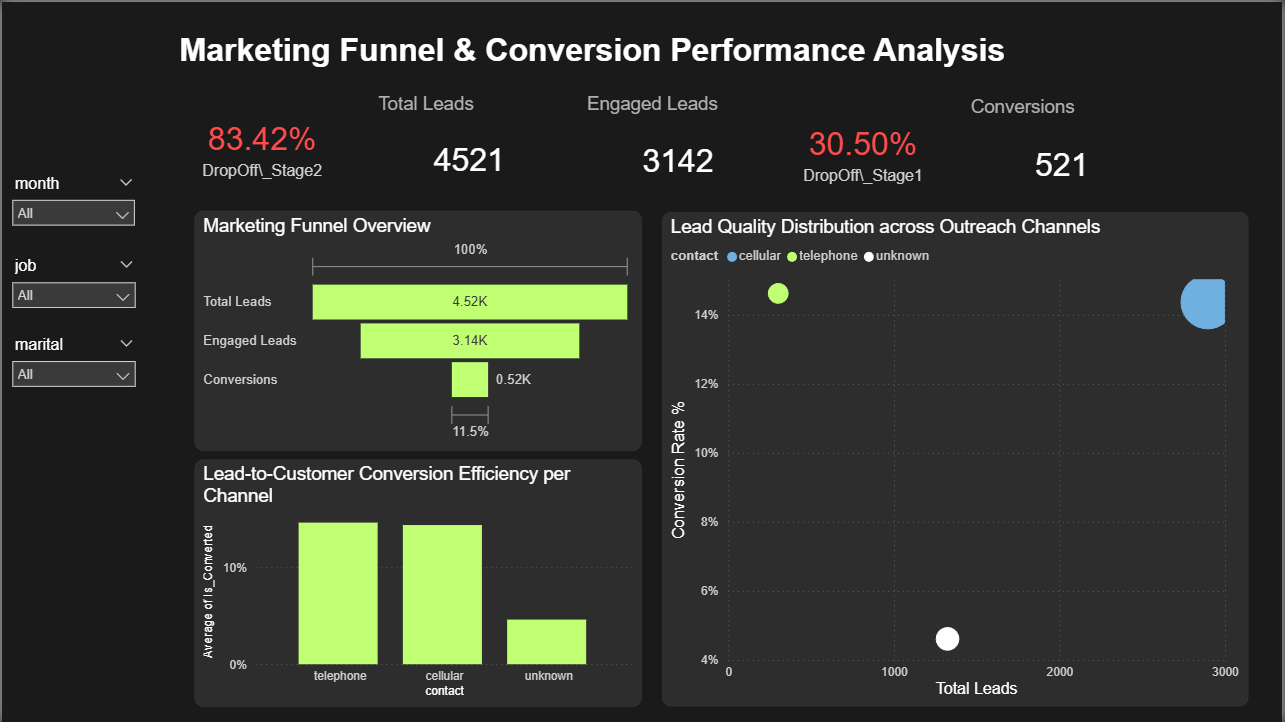

The page's visual inventory and layout, read from the dashboard file:
{"tool":"powerbi","page":{"name":"Page 1","canvas":[1280,720],"ordinal":0},"visuals":[{"type":"card","title":"Total Leads","fields":{"Values":["CountNonNull(marketing_funnel_final_data.contact)"]},"box":[371.5,91.8,192.4,111],"z":0},{"type":"card","title":"Engaged Leads","fields":{"Values":["marketing_funnel_final_data.Engaged Leads"]},"box":[580.2,91.8,192.4,114],"z":1000},{"type":"card","title":"Conversions","fields":{"Values":["marketing_funnel_final_data.Total Conversions"]},"box":[963.6,93.2,192.4,115.4],"z":2000},{"type":"textbox","box":[172.5,25,932.5,62.5],"z":3000},{"type":"funnel","title":"Marketing Funnel Overview","fields":{"Category":["Funnel Stages.Stage"],"Y":["marketing_funnel_final_data.Funnel Value"]},"box":[192.4,208.7,447,239.8],"z":4000},{"type":"clusteredColumnChart","title":"Lead-to-Customer Conversion Efficiency per Channel","fields":{"Category":["marketing_funnel_final_data.contact"],"Y":["Avg(marketing_funnel_final_data.Is_Converted)"]},"box":[192.3,457.7,447,247.5],"z":5000},{"type":"slicer","fields":{"Values":["marketing_funnel_final_data.month"]},"box":[0,167.6,143,169.8],"z":6000},{"type":"slicer","fields":{"Values":["marketing_funnel_final_data.job"]},"box":[0,250.1,143.6,156.9],"z":7000},{"type":"slicer","fields":{"Values":["marketing_funnel_final_data.marital"]},"box":[0,328.6,143.6,225],"z":8000},{"type":"card","fields":{"Values":["Funnel Stages.DropOff\\_Stage1"]},"box":[784.5,93.2,152.5,112.5],"z":9000},{"type":"card","fields":{"Values":["Funnel Stages.DropOff\\_Stage2"]},"box":[173.2,87.3,173.2,115.4],"z":10000},{"type":"scatterChart","title":"Lead Quality Distribution across Outreach Channels","fields":{"Series":["marketing_funnel_final_data.contact"],"X":["Funnel Stages.Total Leads"],"Y":["Funnel Stages.Conversion\\_Rate"],"Size":["marketing_funnel_final_data.Total Conversions"]},"box":[660.1,210.2,586.1,494.4],"z":11000}]}

Visuals, with their boxes in screenshot pixels (x1, y1, x2, y2), scaled from the page's 1280x720 canvas onto the 1285x722 screenshot:
"Total Leads" card: {"x1": 373, "y1": 92, "x2": 566, "y2": 203}
"Engaged Leads" card: {"x1": 582, "y1": 92, "x2": 776, "y2": 206}
"Conversions" card: {"x1": 967, "y1": 93, "x2": 1161, "y2": 209}
textbox: {"x1": 173, "y1": 25, "x2": 1109, "y2": 88}
"Marketing Funnel Overview" funnel: {"x1": 193, "y1": 209, "x2": 642, "y2": 450}
"Lead-to-Customer Conversion Efficiency per Channel" clusteredColumnChart: {"x1": 193, "y1": 459, "x2": 642, "y2": 707}
slicer - marketing_funnel_final_data.month: {"x1": 0, "y1": 168, "x2": 144, "y2": 338}
slicer - marketing_funnel_final_data.job: {"x1": 0, "y1": 251, "x2": 144, "y2": 408}
slicer - marketing_funnel_final_data.marital: {"x1": 0, "y1": 330, "x2": 144, "y2": 555}
card - Funnel Stages.DropOff\_Stage1: {"x1": 788, "y1": 93, "x2": 941, "y2": 206}
card - Funnel Stages.DropOff\_Stage2: {"x1": 174, "y1": 88, "x2": 348, "y2": 203}
"Lead Quality Distribution across Outreach Channels" scatterChart: {"x1": 663, "y1": 211, "x2": 1251, "y2": 707}
